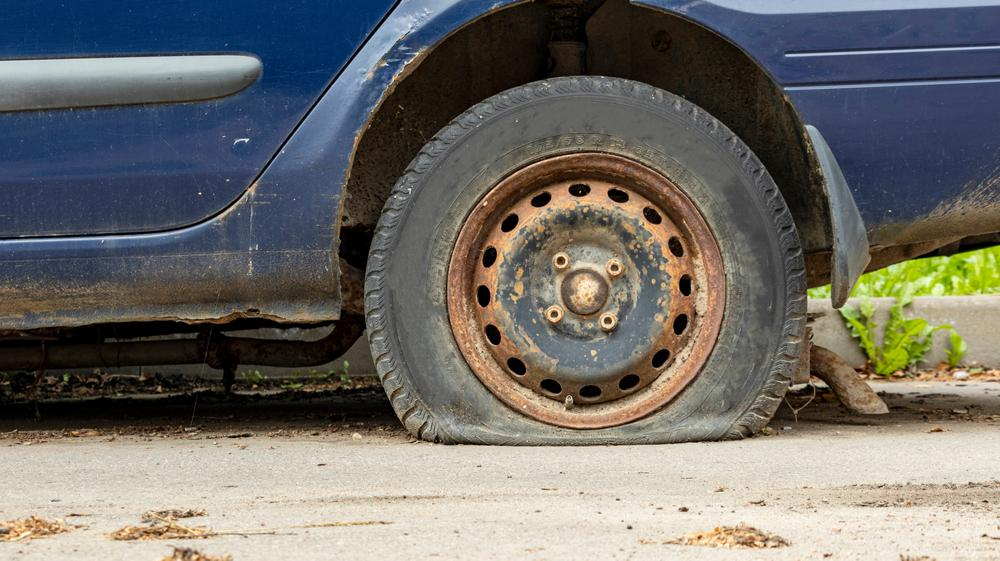tire flat: (362, 75, 809, 446)
